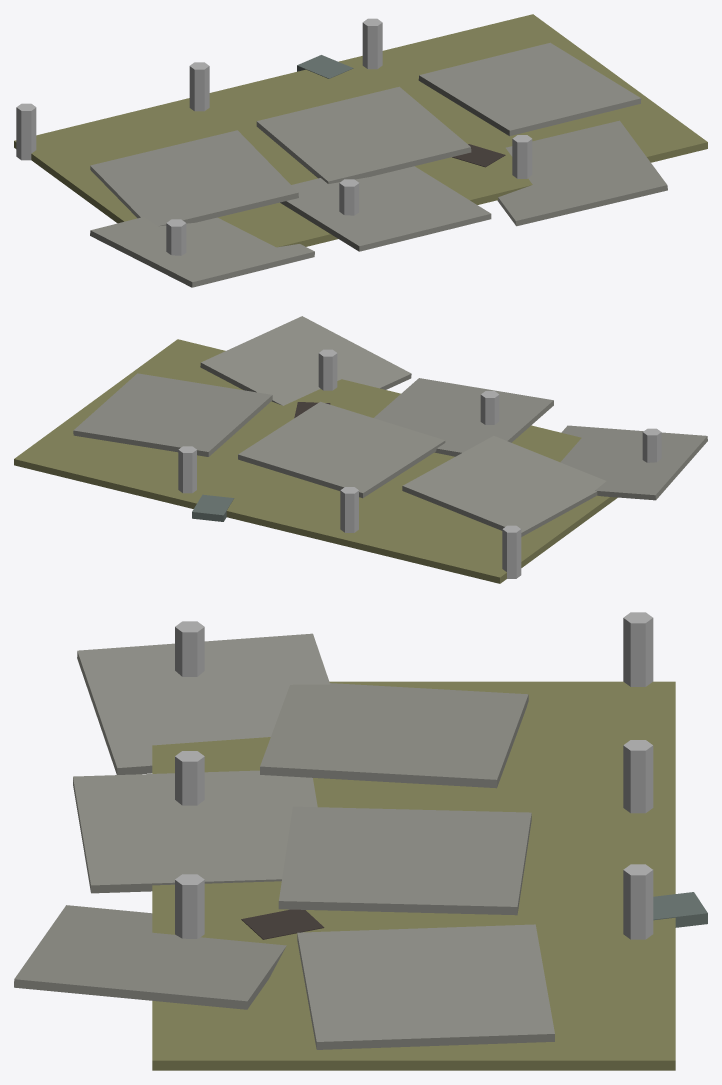
File: SM_MarquesinaBus_v3_Lonas_e3_Brecha_LOD1.fbx
3 views of the same model, one above another, from view 1: azimuth 30°, elevation 25°; view 2: azimuth 150°, elevation 25°; view 3: azimuth 270°, elevation 25° (orthographic). The views are drawn at different scales.
Parts seen in each view (by area): view 1: SM_marquesina_bus_v15_LOD1; view 2: SM_marquesina_bus_v15_LOD1; view 3: SM_marquesina_bus_v15_LOD1.
Part boxes in pixels (x1=…): SM_marquesina_bus_v15_LOD1: x1=14, y1=14, x2=707, y2=287; SM_marquesina_bus_v15_LOD1: x1=14, y1=316, x2=707, y2=583; SM_marquesina_bus_v15_LOD1: x1=14, y1=612, x2=707, y2=1070.
Bounding box in the file's own units: 13.05 × 1.16 × 9.29.
